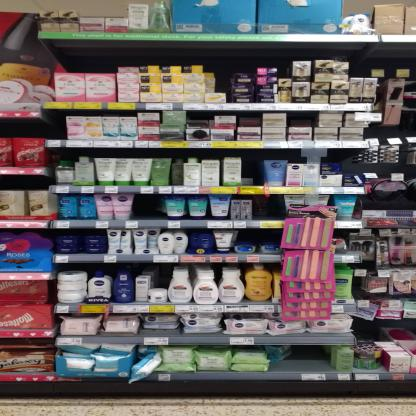Void: (4, 121, 64, 138), (293, 347, 327, 370), (136, 196, 163, 218), (368, 196, 412, 209), (0, 176, 42, 189), (256, 197, 280, 218), (355, 320, 381, 339), (289, 112, 317, 126), (344, 152, 360, 176), (247, 152, 262, 176), (155, 262, 168, 286), (219, 70, 228, 92), (190, 112, 212, 118)
